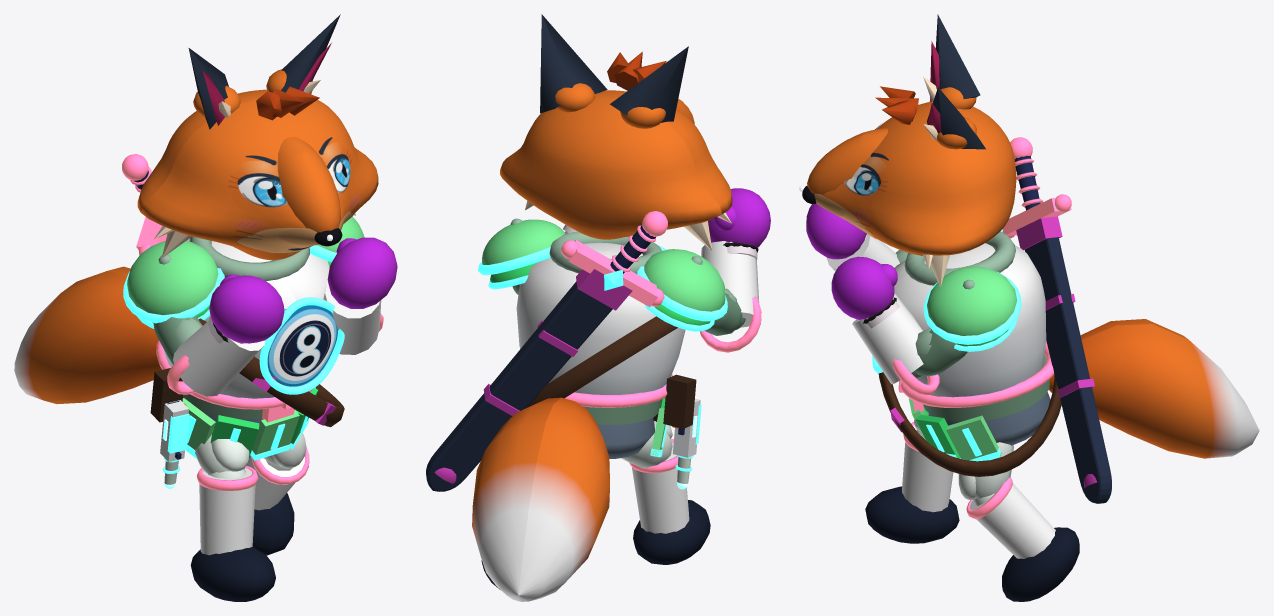
The model's file is ben_alt2.glb.
3 views of the same model, side by side, from view 1: azimuth 30°, elevation 25°; view 2: azimuth 150°, elevation 25°; view 3: azimuth 270°, elevation 25° (orthographic). The views are drawn at different scales.
Visible parts, largest first — view 1: BEN ALT 2, object 2, object 24, object 28, object 6, object 3, object 10, object 9; view 2: BEN ALT 2, object 6, object 3, object 24, object 9; view 3: BEN ALT 2, object 28, object 24, object 2, object 3, object 6.
Boxes of the visible parts, box(x1,y1,x2,y2) form: BEN ALT 2: box(14, 69, 383, 601); object 2: box(228, 137, 358, 254); object 24: box(209, 275, 284, 343); object 28: box(327, 237, 397, 308); object 6: box(281, 14, 340, 92); object 3: box(188, 48, 228, 129); object 10: box(167, 413, 189, 453); object 9: box(160, 400, 188, 461); BEN ALT 2: box(426, 51, 761, 601); object 6: box(540, 14, 607, 113); object 3: box(610, 46, 688, 122); object 24: box(708, 188, 770, 247); object 9: box(673, 398, 700, 457); BEN ALT 2: box(799, 86, 1259, 601); object 28: box(831, 256, 894, 319); object 24: box(806, 203, 866, 259); object 2: box(814, 123, 888, 238); object 3: box(935, 14, 980, 98); object 6: box(927, 87, 985, 149).
Bounding box in the file's own units: 1.11 × 2.52 × 1.99.
121 materials, 2 textured.
